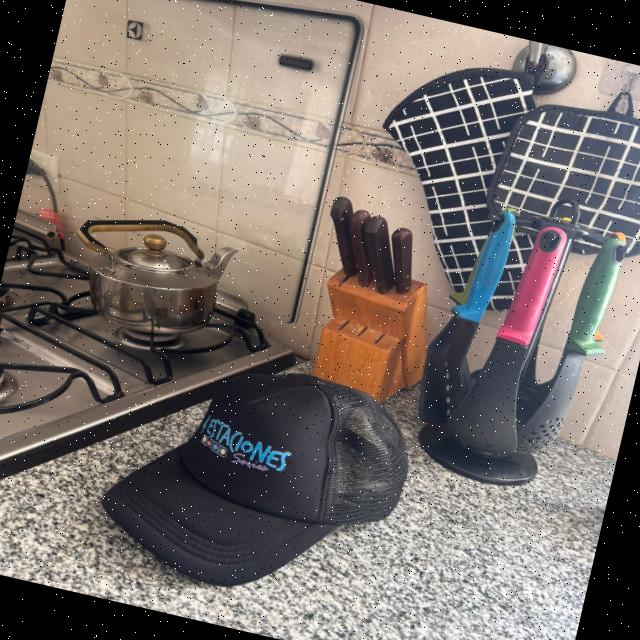Gorra: (79, 324, 430, 626)
